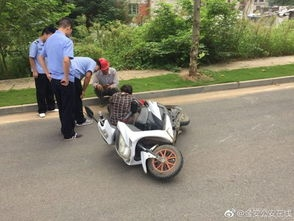falling: (102, 82, 139, 121)
